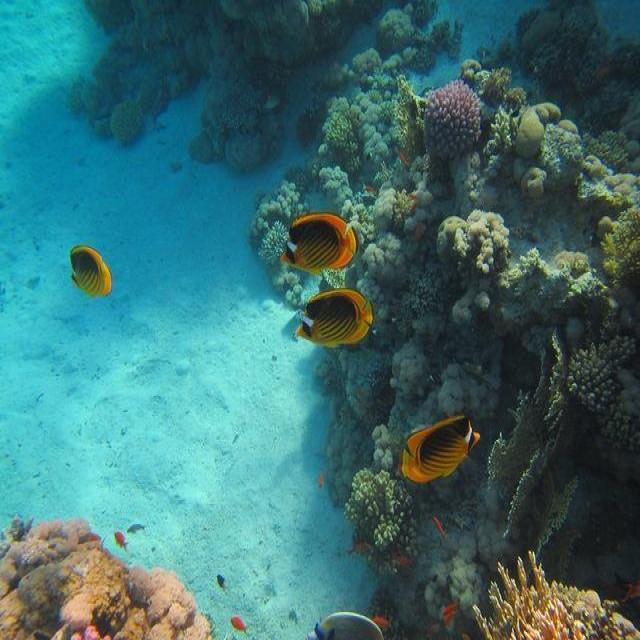fish: (401, 417, 480, 482), (282, 212, 358, 278), (294, 290, 373, 346), (68, 246, 113, 296), (307, 611, 384, 639)
reefs: (66, 0, 385, 166), (487, 329, 639, 551), (0, 515, 212, 639), (440, 212, 607, 334), (475, 549, 639, 639), (343, 424, 419, 578), (519, 3, 639, 97), (422, 81, 480, 158)
